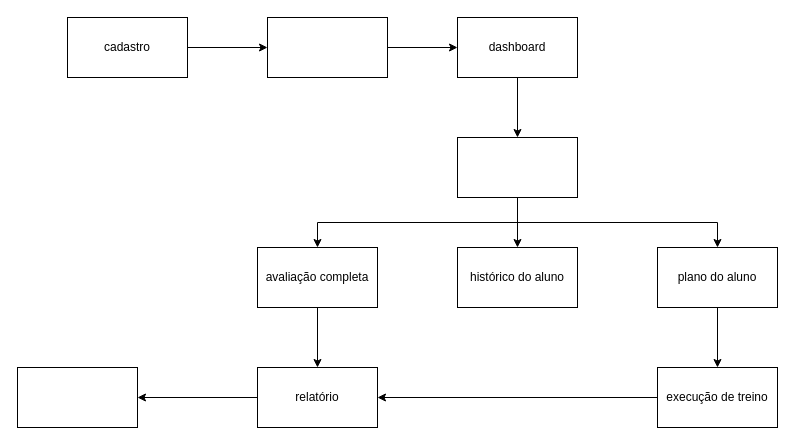
This 795x445 diagram has some shape labels left out. Each missing label, with the box of its shape:
acompanhamento: (16, 366, 138, 428)
login: (266, 16, 388, 78)
seleção: (456, 136, 578, 198)
